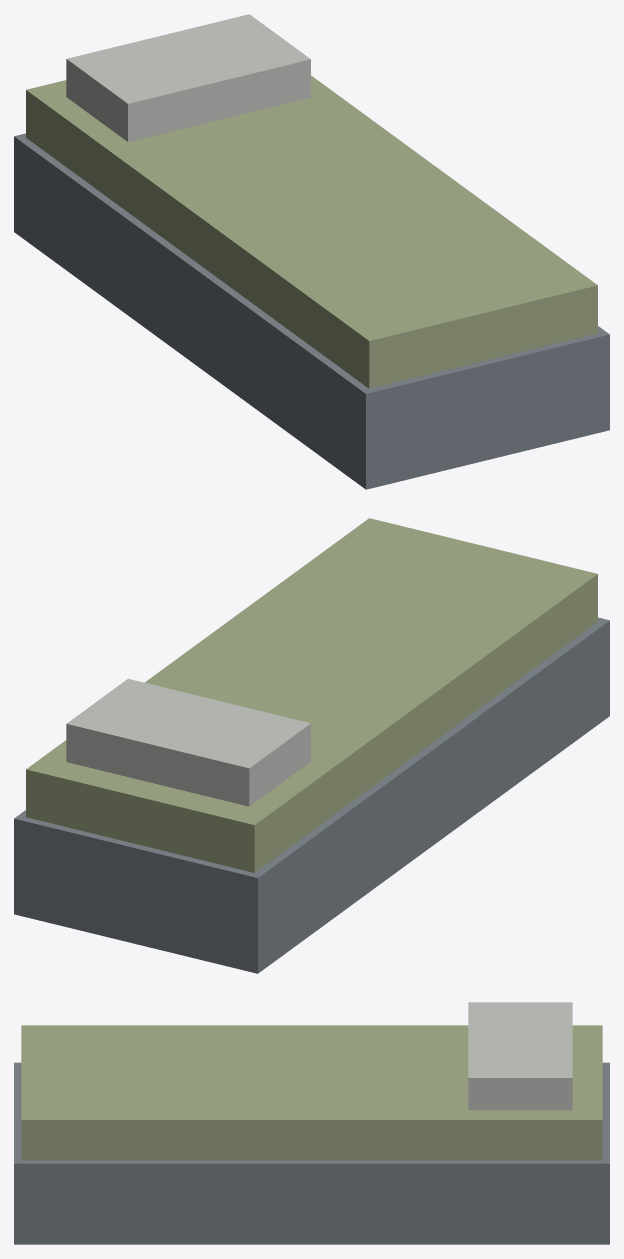
The model's file is mech-hangar-and-battle-frames-pilot-bunk-c763fd69__26994.glb.
3 views of the same model, one above another, from view 1: azimuth 30°, elevation 25°; view 2: azimuth 150°, elevation 25°; view 3: azimuth 270°, elevation 25° (orthographic). The views are drawn at different scales.
Parts seen in each view (by area): view 1: pilot-bunk; view 2: pilot-bunk; view 3: pilot-bunk.
Part boxes in pixels (bbox=[...]): pilot-bunk: bbox=[14, 14, 609, 489]; pilot-bunk: bbox=[14, 518, 609, 973]; pilot-bunk: bbox=[14, 1002, 609, 1244].
Bounding box in the file's own units: 0.7999 × 0.57 × 2.
